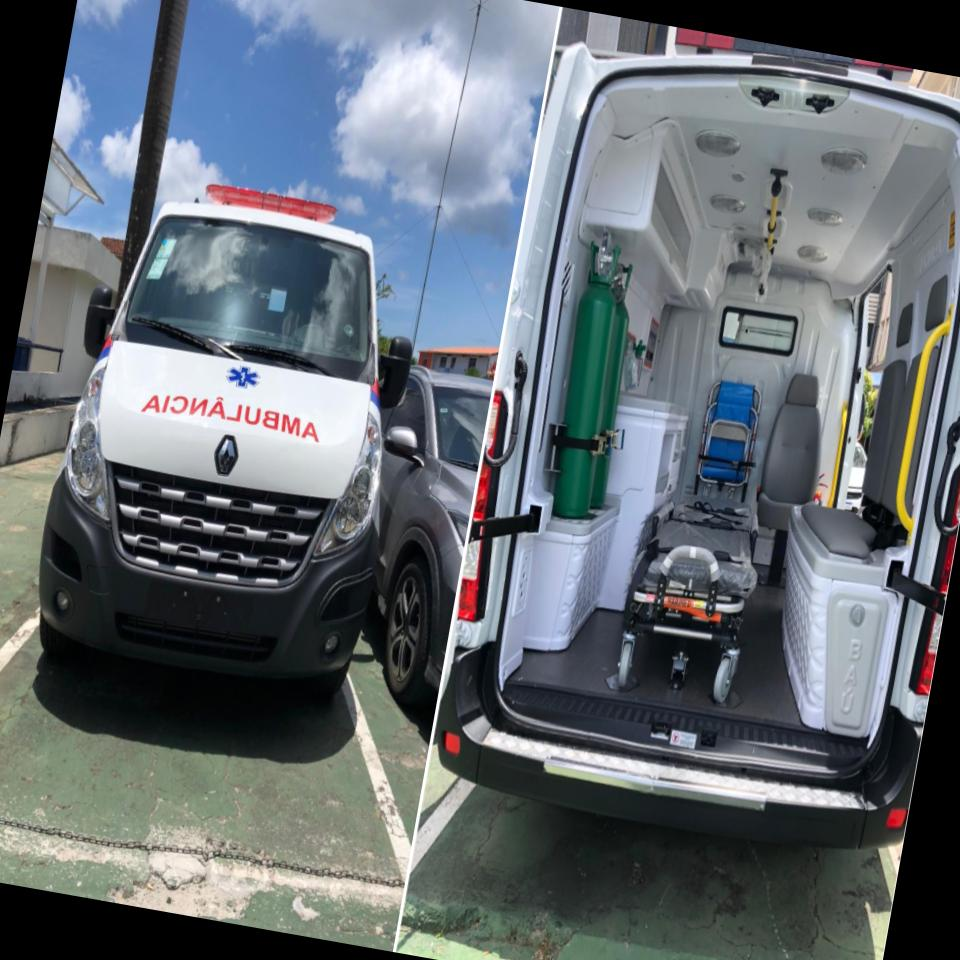bombeiro: (22, 165, 436, 709)
